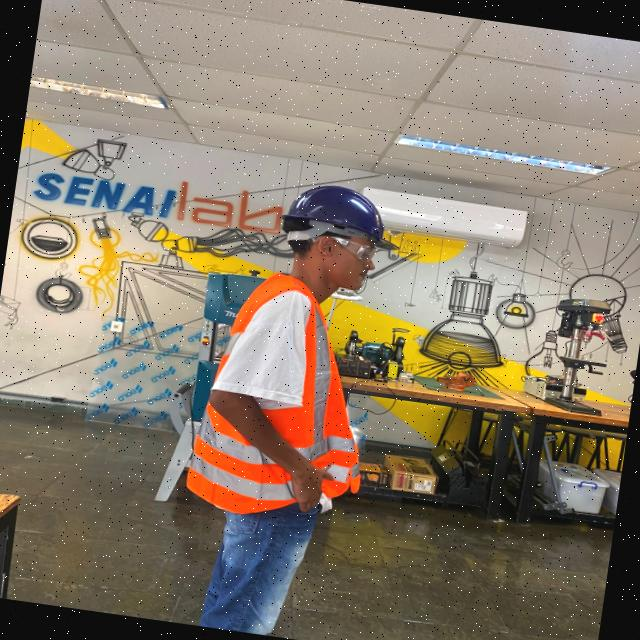CAPACETE: (279, 185, 405, 252)
COLETE: (185, 269, 362, 515)
OCULOS: (306, 236, 381, 263)
SEM LUVA: (287, 459, 338, 513)
